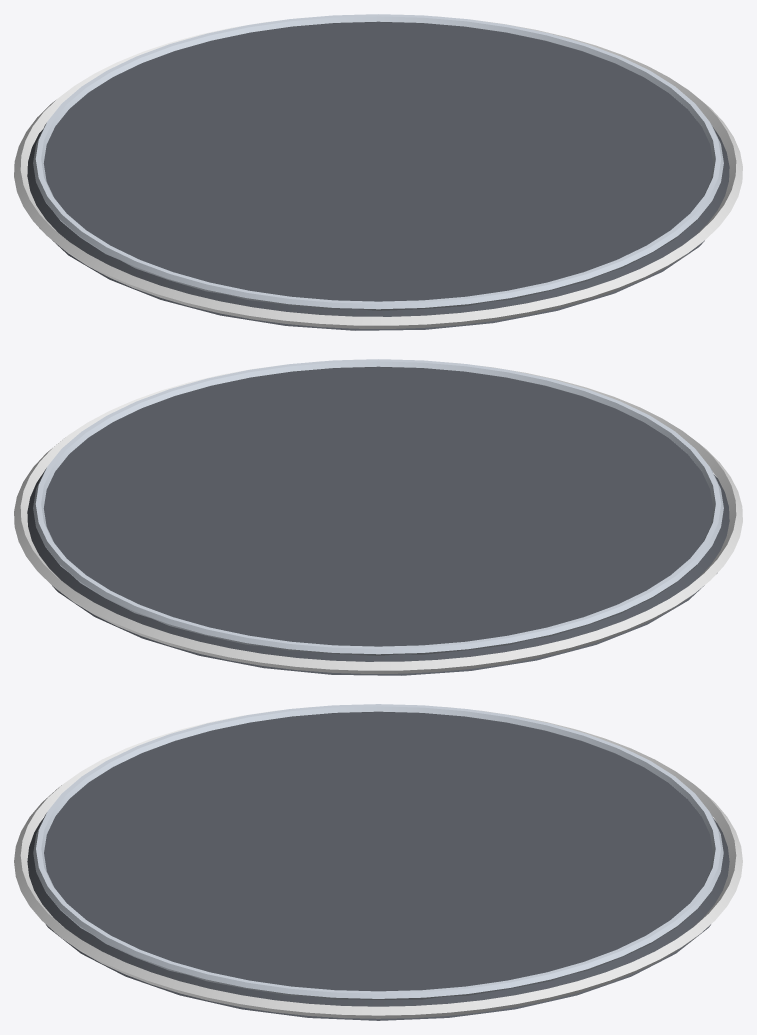
Rendered from base_large_s2.fbx.
3 renders of one model, top to bottom at view 1: azimuth 30°, elevation 25°; view 2: azimuth 150°, elevation 25°; view 3: azimuth 270°, elevation 25°, orthographic.
Visible parts, largest first — view 1: base_large_s2; view 2: base_large_s2; view 3: base_large_s2.
Boxes of the visible parts, box(x1,y1,x2,y2) form: base_large_s2: box(14, 14, 742, 330); base_large_s2: box(14, 359, 742, 675); base_large_s2: box(14, 704, 742, 1020).
Bounding box in the file's own units: 3.26 × 0.1028 × 3.26.
Materials: 2 (1 with a texture image).
